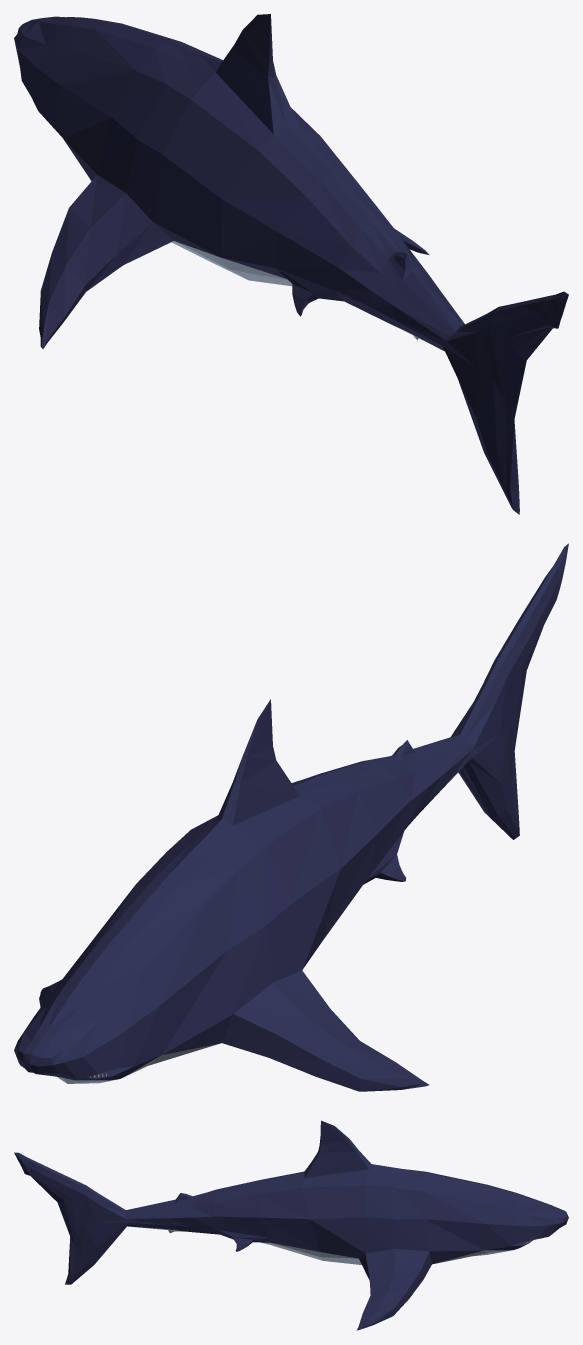
The model's file is shark.obj.
3 renders of one model, top to bottom at view 1: azimuth 30°, elevation 25°; view 2: azimuth 150°, elevation 25°; view 3: azimuth 270°, elevation 25°, orthographic. The views are drawn at different scales.
Visible parts, largest first — view 1: Regroup01; view 2: Regroup01; view 3: Regroup01.
Boxes of the visible parts, x1,y1,x2,y2 form: Regroup01: (14, 14, 568, 514); Regroup01: (14, 543, 568, 1091); Regroup01: (14, 1120, 568, 1330).
Bounding box in the file's own units: 1.65 × 1.3 × 3.97.
Materials: 1 (1 with a texture image).
